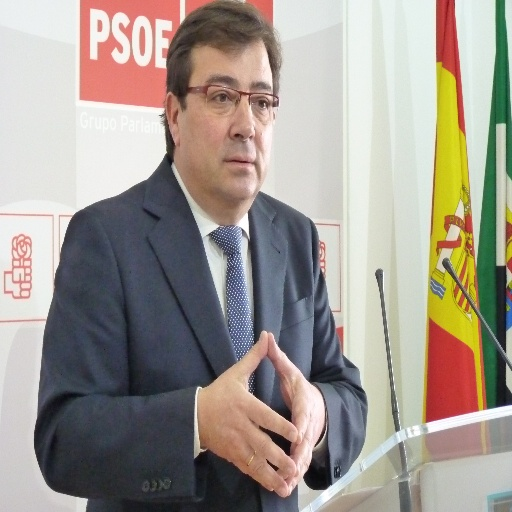hand: (265, 329, 330, 498)
